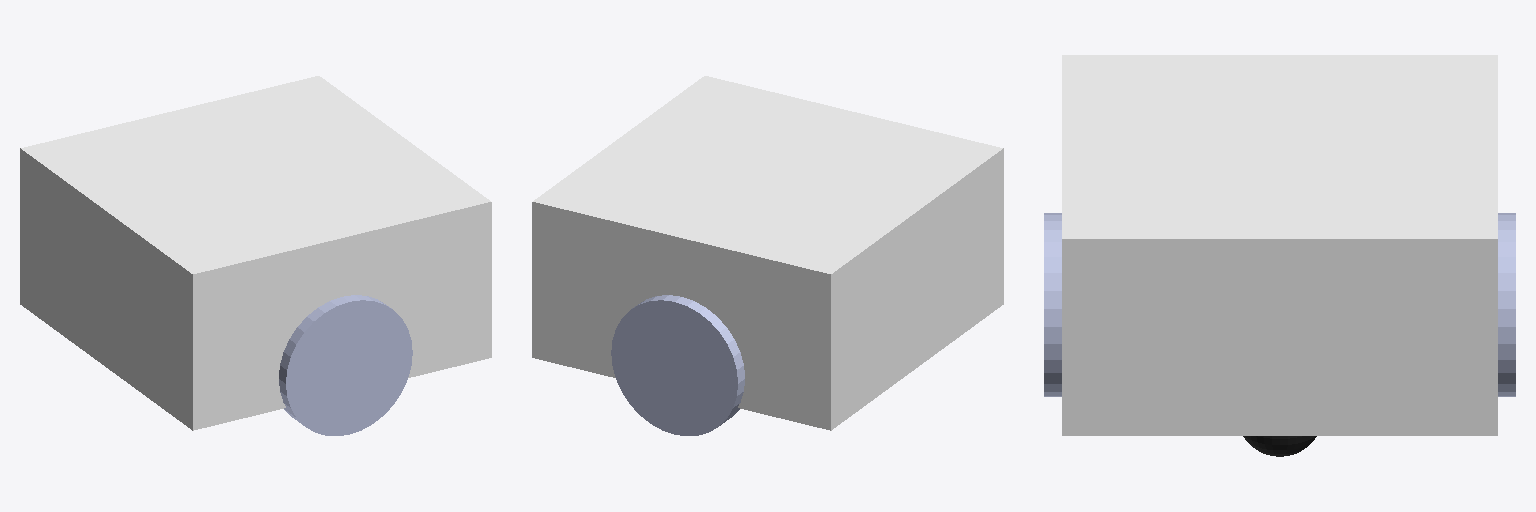
robot.urdf — obstacle_bot:
<?xml version="1.0" encoding="utf-8"?>
<!-- This URDF was automatically created by SolidWorks to URDF Exporter! Originally created by [author] ([email redacted]) 
     Commit Version: 1.6.0-4-g7f85cfe  Build Version: 1.6.7995.38578
     For more information, please see http://wiki.ros.org/sw_urdf_exporter -->
<robot
  name="obstacle_bot">

  <link
    name="Base">
    <inertial>
      <origin
        xyz="0 0 0.02"
        rpy="0 0 0" />
      <mass
        value="0.2" />
      <inertia
        ixx="0.0002"
        ixy="0"
        ixz="0"
        iyy="0.0002"
        iyz="0"
        izz="0.0003" />
    </inertial>
    <visual>
      <origin
        xyz="0 0 0.02"
        rpy="0 0 0" />
      <geometry>
        <box size="0.08 0.08 0.04"/>
      </geometry>
      <material
        name="">
        <color
          rgba="1 1 1 0.3" />
      </material>
    </visual>
    <collision>
      <origin
        xyz="0 0 0.02"
        rpy="0 0 0" />
      <geometry>
        <box size="0.08 0.08 0.04"/>
      </geometry>
    </collision>
  </link>

  <!-- Right wheel -->

  <link
    name="Right_wheel">
    <inertial>
      <origin
        xyz="0 0 0"
        rpy="0 0 0" />
      <mass
        value="0.05" />
      <inertia
        ixx="0.00001"
        ixy="0"
        ixz="0"
        iyy="0.00001"
        iyz="0"
        izz="0.00001" />
    </inertial>
    <visual>
      <origin
        xyz="0 0 0"
        rpy="0 0 0" />
      <geometry>
        <cylinder radius="0.017" length="0.006"/>
      </geometry>
      <material
        name="">
        <color
          rgba="0.792156862745098 0.819607843137255 0.933333333333333 1" />
      </material>
    </visual>
    <collision>
      <origin
        xyz="0 0 0"
        rpy="0 0 0" />
      <geometry>
        <cylinder radius="0.017" length="0.006"/>
      </geometry>
    </collision>
  </link>

  <joint
    name="Right_wheel_joint"
    type="continuous">
    <origin
      xyz="0 -0.0403 0.008"
      rpy="1.5708 0 0" />
    <parent
      link="Base" />
    <child
      link="Right_wheel" />
    <axis
      xyz="0 0 1" />
    <dynamics damping="0.1" friction="0.1"/>
  </joint>

  <!-- Left wheel -->

  <link
    name="Left_wheel">
    <inertial>
      <origin
        xyz="0 0 0"
        rpy="0 0 0" />
      <mass
        value="0.05" />
      <inertia
        ixx="0.00001"
        ixy="0"
        ixz="0"
        iyy="0.00001"
        iyz="0"
        izz="0.00001" />
    </inertial>
    <visual>
      <origin
        xyz="0 0 0"
        rpy="0 0 0" />
      <geometry>
        <cylinder radius="0.017" length="0.006"/>
      </geometry>
      <material
        name="">
        <color
          rgba="0.792156862745098 0.819607843137255 0.933333333333333 1" />
      </material>
    </visual>
    <collision>
      <origin
        xyz="0 0 0"
        rpy="0 0 0" />
      <geometry>
        <cylinder radius="0.017" length="0.006"/>
      </geometry>
    </collision>
  </link>

  <joint
    name="Left_wheel_joint"
    type="continuous">
    <origin
      xyz="0 0.0403 0.008"
      rpy="1.5708 0 0" />
    <parent
      link="Base" />
    <child
      link="Left_wheel" />
    <axis
      xyz="0 0 1" />
    <dynamics damping="0.1" friction="0.1"/>
  </joint>

  <!-- Caster wheel -->

  <link
    name="Caster_wheel">
    <inertial>
      <origin
        xyz="0 0 0"
        rpy="0 0 0" />
      <mass
        value="0.01" />
      <inertia
        ixx="0.000001"
        ixy="0"
        ixz="0"
        iyy="0.000001"
        iyz="0"
        izz="0.000001" />
    </inertial>
    <visual>
      <origin
        xyz="0 0 0"
        rpy="0 0 0" />
      <geometry>
        <sphere radius="0.008"/>
      </geometry>
      <material
        name="">
        <color
          rgba="0.2 0.2 0.2 1" />
      </material>
    </visual>
    <collision>
      <origin
        xyz="0 0 0"
        rpy="0 0 0" />
      <geometry>
        <sphere radius="0.008"/>
      </geometry>
    </collision>
  </link>

  <joint
    name="Caster_wheel_joint"
    type="fixed">
    <origin
      xyz="0.03 0 0"
      rpy="0 0 0" />
    <parent
      link="Base" />
    <child
      link="Caster_wheel" />
  </joint>
</robot>

--- Render facts (derived) ---
The picture shows the robot from 3 angles, left to right: view 1: azimuth 30°, elevation 25°; view 2: azimuth 150°, elevation 25°; view 3: azimuth 270°, elevation 25°; orthographic projection.
Model obstacle_bot with 4 links and 3 joints (2 continuous, 1 fixed), rooted at Base, posed every joint at zero.
Visible links, largest first — view 1: Base, Right_wheel; view 2: Base, Left_wheel; view 3: Base, Right_wheel, Left_wheel, Caster_wheel.
Link boxes in pixels (bbox=[...]): Base: bbox=[20, 76, 491, 430]; Right_wheel: bbox=[279, 295, 412, 435]; Base: bbox=[532, 76, 1003, 430]; Left_wheel: bbox=[611, 295, 744, 435]; Base: bbox=[1062, 55, 1497, 435]; Right_wheel: bbox=[1044, 213, 1061, 396]; Left_wheel: bbox=[1498, 213, 1515, 396]; Caster_wheel: bbox=[1243, 436, 1316, 456].
Size in the robot's own frame: 0.08 by 0.0866 by 0.049 metres.
Geometry: primitives only (box / cylinder / sphere), no mesh files.
